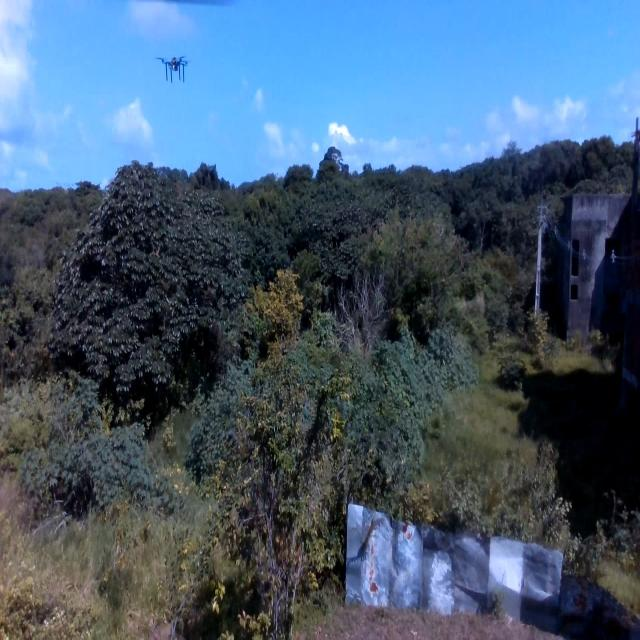-uav-: (154, 44, 194, 92)
